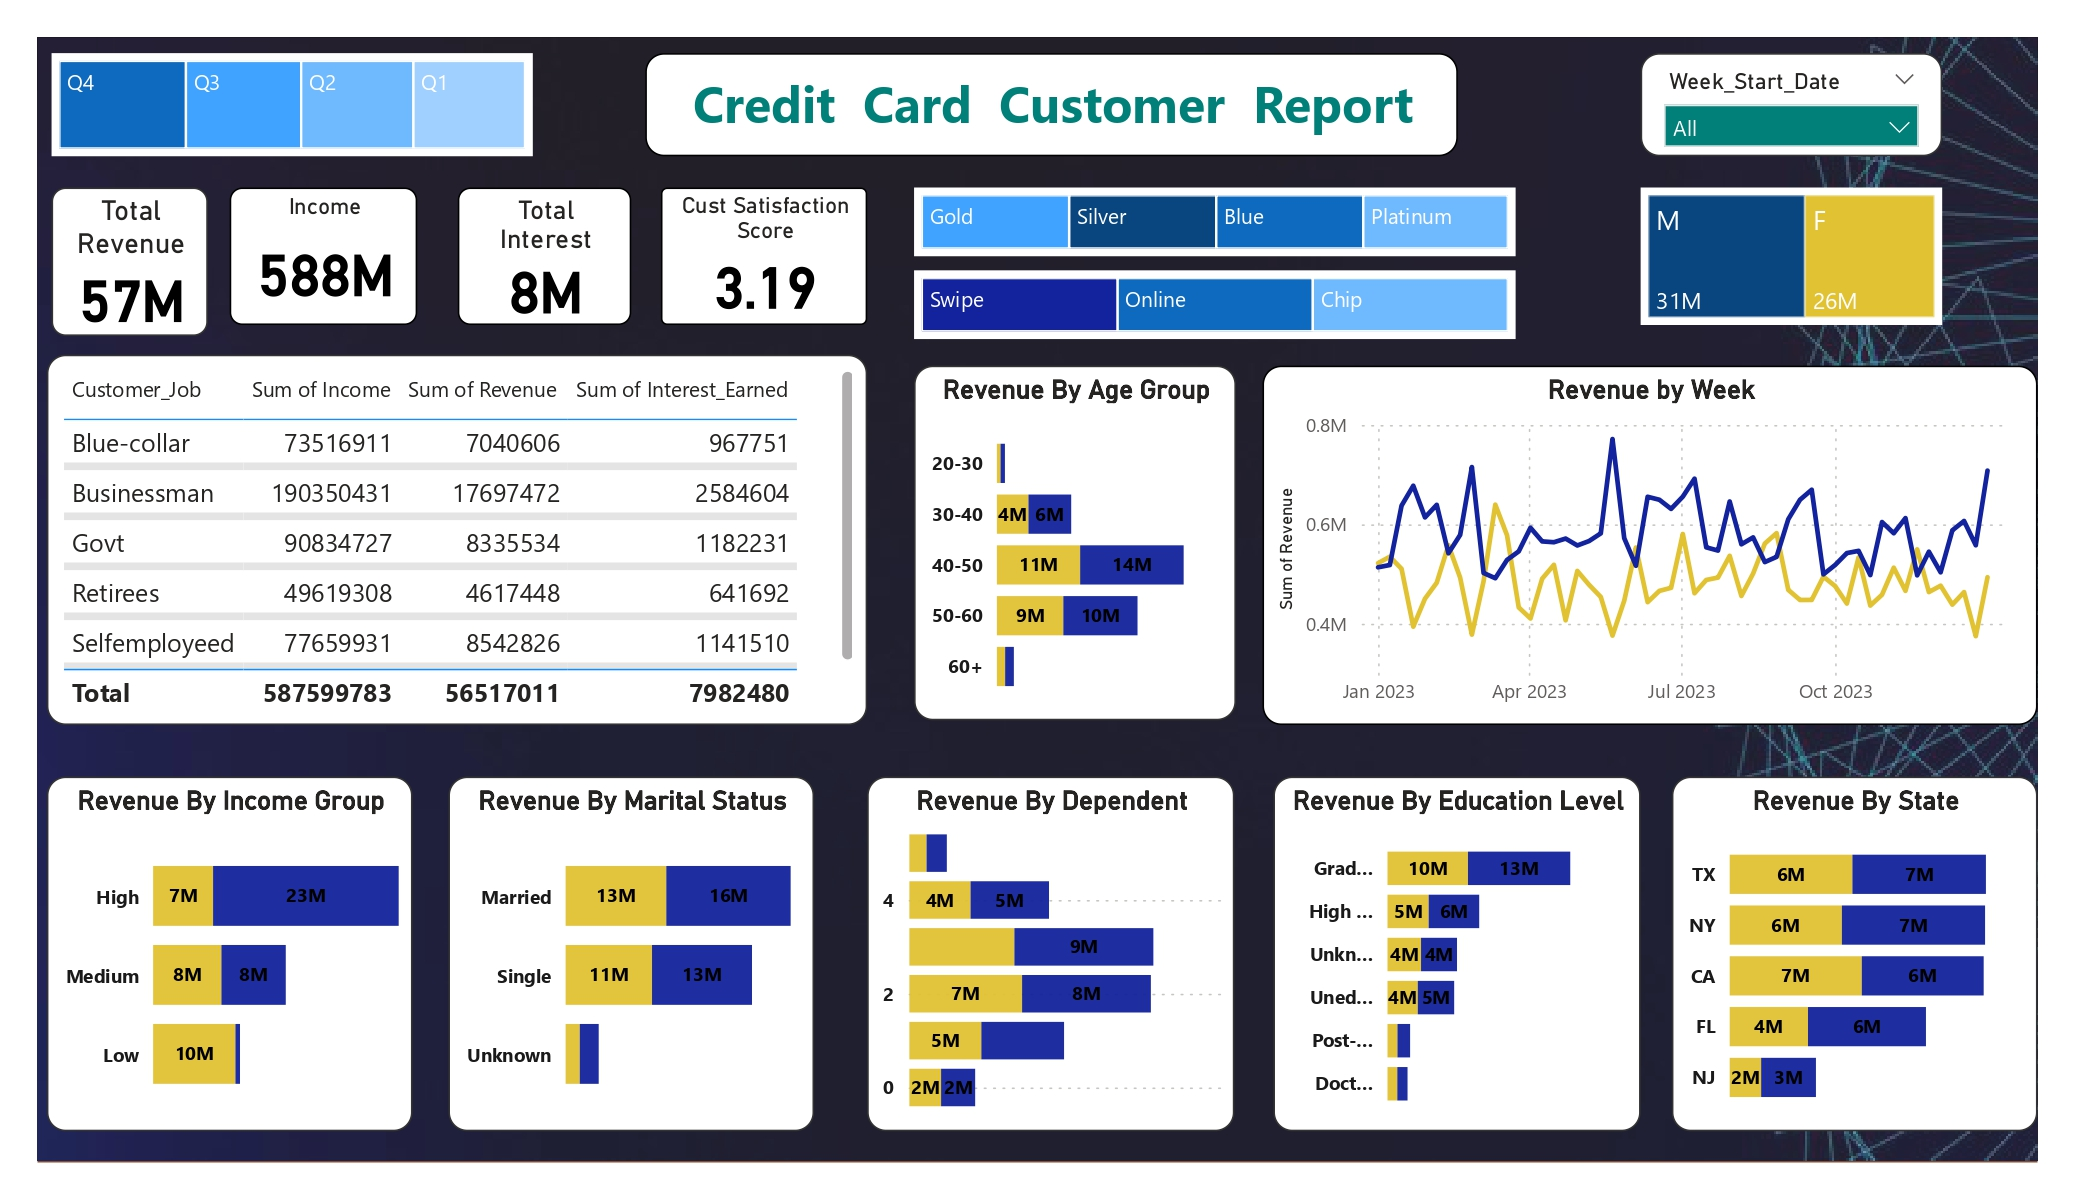

The page's visual inventory and layout, read from the dashboard file:
{"tool":"powerbi","page":{"name":"CC Customer","canvas":[1280,720],"ordinal":2},"visuals":[{"type":"textbox","box":[388.6,10,520,65.7],"z":0},{"type":"barChart","title":"Revenue By Income Group","fields":{"Y":["Sum(cc_detail.Revenue)"],"Category":["cust_detail.IncomeGroup"],"Series":["cust_detail.Gender"]},"box":[5.7,472.9,234,227.1],"z":1},{"type":"tableEx","fields":{"Values":["cust_detail.Customer_Job","Sum(cust_detail.Income)","Sum(cc_detail.Revenue)","Sum(cc_detail.Interest_Earned)"]},"box":[5.7,202.9,525.7,237.1],"z":2},{"type":"card","title":"Total Revenue","fields":{"Values":["Sum(cc_detail.Revenue)"]},"box":[8.6,95.7,100,95.7],"z":3},{"type":"card","title":"Income","fields":{"Values":["Sum(cust_detail.Income)"]},"box":[122.9,95.7,120,88.6],"z":4},{"type":"card","title":"Total Interest ","fields":{"Values":["Sum(cc_detail.Interest_Earned)"]},"box":[268.6,95.7,111.4,88.6],"z":5},{"type":"card","title":"Cust Satisfaction Score","fields":{"Values":["Avg(cust_detail.Cust_Satisfaction_Score)"]},"box":[398.6,95.7,132.9,88.6],"z":6},{"type":"slicer","fields":{"Values":["cc_detail.Week_Start_Date"]},"box":[1025.7,10,192.9,65.7],"z":7},{"type":"treemap","fields":{"Group":["cc_detail.Card_Category"],"Values":["Avg(cc_detail.Client_Num)"]},"box":[561.4,95.7,384.3,44.3],"z":9},{"type":"treemap","fields":{"Group":["cc_detail.Qtr"],"Values":["Avg(cc_detail.Client_Num)"]},"box":[8.6,10,308.6,65.7],"z":11},{"type":"lineChart","title":" Revenue by Week","fields":{"Y":["Sum(cc_detail.Revenue)"],"Series":["cust_detail.Gender"],"Category":["cc_detail.Week_Start_Date.Variation.Date Hierarchy.Year","cc_detail.Week_Start_Date.Variation.Date Hierarchy.Month","cc_detail.Week_Start_Date.Variation.Date Hierarchy.Day"]},"box":[784.3,210,495.7,230],"z":12},{"type":"treemap","fields":{"Group":["cust_detail.Gender"],"Values":["Sum(cc_detail.Revenue)"]},"box":[1025.7,95.7,192.9,88.6],"z":13},{"type":"barChart","title":"Revenue By  Age Group","fields":{"Y":["Sum(cc_detail.Revenue)"],"Category":["cust_detail.AgeGroup"],"Series":["cust_detail.Gender"]},"box":[561.4,210,205.7,227.1],"z":14},{"type":"barChart","title":"Revenue By  Dependent","fields":{"Y":["Sum(cc_detail.Revenue)"],"Category":["cust_detail.Dependent_Count"],"Series":["cust_detail.Gender"]},"box":[531.4,472.9,234.3,227.1],"z":15},{"type":"barChart","title":"Revenue By  Education Level","fields":{"Y":["Sum(cc_detail.Revenue)"],"Category":["cust_detail.Education_Level"],"Series":["cust_detail.Gender"]},"box":[791.4,472.9,234.3,227.1],"z":16},{"type":"barChart","title":"Revenue By  State","fields":{"Y":["Sum(cc_detail.Revenue)"],"Category":["cust_detail.State_cd"],"Series":["cust_detail.Gender"]},"box":[1045.7,472.9,234.3,227.1],"z":17},{"type":"barChart","title":"Revenue By Marital Status","fields":{"Y":["Sum(cc_detail.Revenue)"],"Category":["cust_detail.Marital_Status"],"Series":["cust_detail.Gender"]},"box":[262.9,472.9,234.3,227.1],"z":18},{"type":"treemap","fields":{"Group":["cc_detail.Use_Chip"],"Values":["Avg(cc_detail.Client_Num)"]},"box":[561.4,148.6,384.3,44.3],"z":19}]}

Visuals, with their boxes in screenshot pixels (x1, y1, x2, y2):
textbox: {"x1": 645, "y1": 53, "x2": 1457, "y2": 156}
"Revenue By Income Group" barChart: {"x1": 46, "y1": 776, "x2": 412, "y2": 1131}
tableEx - cust_detail.Customer_Job x Sum(cust_detail.Income): {"x1": 46, "y1": 355, "x2": 868, "y2": 725}
"Total Revenue" card: {"x1": 51, "y1": 187, "x2": 207, "y2": 337}
"Income" card: {"x1": 230, "y1": 187, "x2": 417, "y2": 325}
"Total Interest " card: {"x1": 457, "y1": 187, "x2": 631, "y2": 325}
"Cust Satisfaction Score" card: {"x1": 660, "y1": 187, "x2": 868, "y2": 325}
slicer - cc_detail.Week_Start_Date: {"x1": 1640, "y1": 53, "x2": 1942, "y2": 156}
treemap - cc_detail.Card_Category x Avg(cc_detail.Client_Num): {"x1": 915, "y1": 187, "x2": 1515, "y2": 256}
treemap - cc_detail.Qtr x Avg(cc_detail.Client_Num): {"x1": 51, "y1": 53, "x2": 533, "y2": 156}
" Revenue by Week" lineChart: {"x1": 1263, "y1": 366, "x2": 2038, "y2": 725}
treemap - cust_detail.Gender x Sum(cc_detail.Revenue): {"x1": 1640, "y1": 187, "x2": 1942, "y2": 325}
"Revenue By  Age Group" barChart: {"x1": 915, "y1": 366, "x2": 1236, "y2": 720}
"Revenue By  Dependent" barChart: {"x1": 868, "y1": 776, "x2": 1234, "y2": 1131}
"Revenue By  Education Level" barChart: {"x1": 1274, "y1": 776, "x2": 1640, "y2": 1131}
"Revenue By  State" barChart: {"x1": 1671, "y1": 776, "x2": 2038, "y2": 1131}
"Revenue By Marital Status" barChart: {"x1": 448, "y1": 776, "x2": 814, "y2": 1131}
treemap - cc_detail.Use_Chip x Avg(cc_detail.Client_Num): {"x1": 915, "y1": 270, "x2": 1515, "y2": 339}
